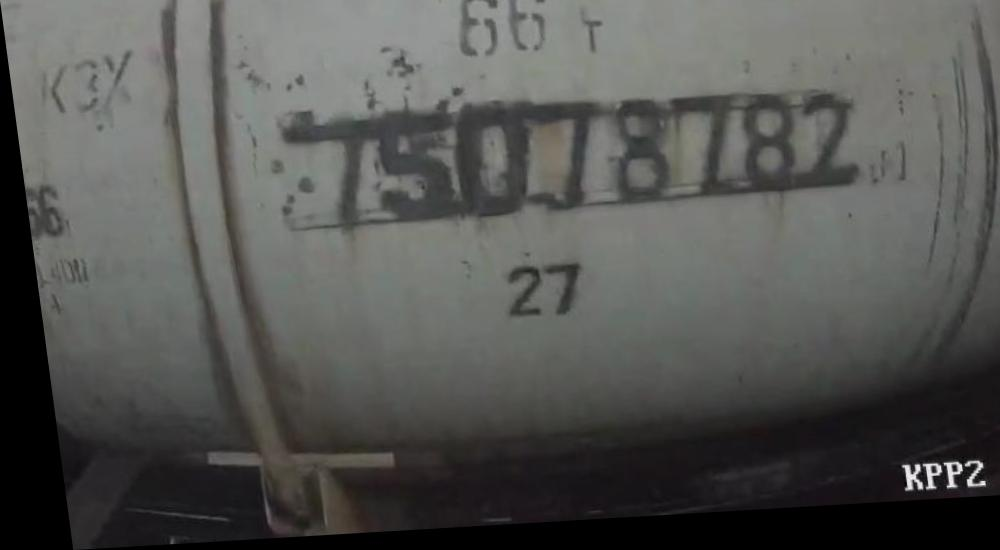Wagon-number: (267, 84, 865, 231)
